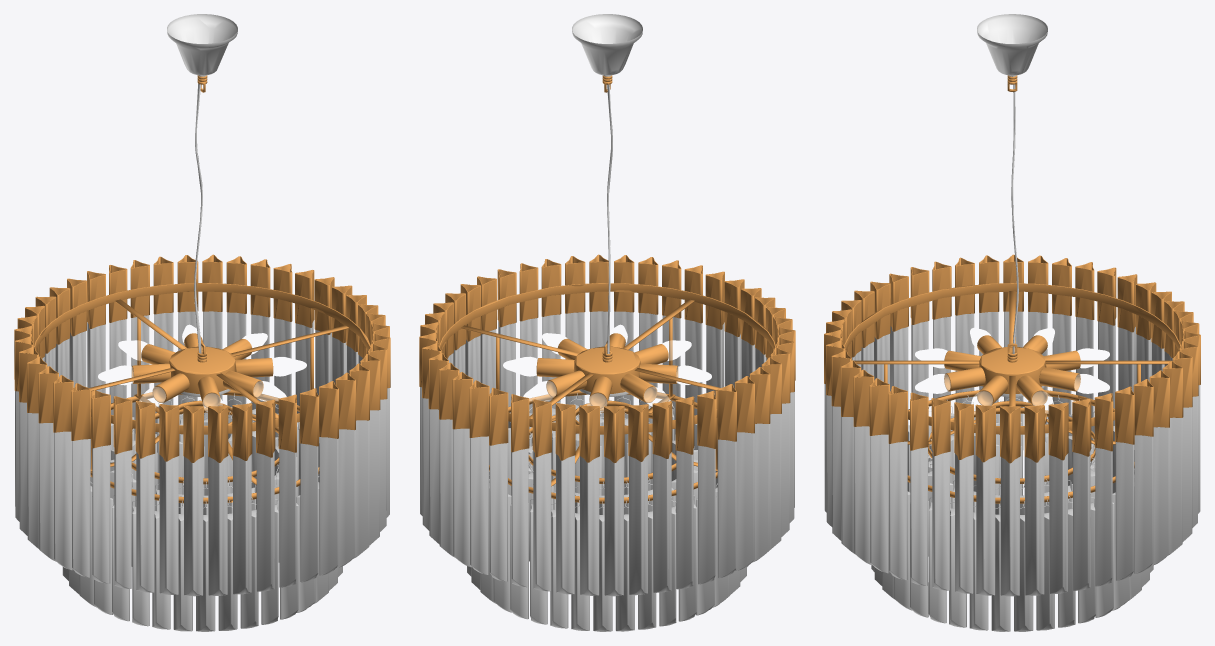
The model's file is crystal-chandelier-lamp.glb.
3 renders of one model, left to right at view 1: azimuth 30°, elevation 25°; view 2: azimuth 150°, elevation 25°; view 3: azimuth 270°, elevation 25°, orthographic.
Parts seen in each view (by area): view 1: Chandelier_Lamp3, Crystal (×2), Cylinder050.012, Cylinder050.013, Cylinder050.014, Cylinder050.007, Cylinder050.011, Cylinder050.015, Cylinder050.018, Cylinder050.010, Cylinder050.017, Cylinder050.008 (+45 smaller); view 2: Chandelier_Lamp3, Cylinder050.027, Cylinder050.028, Cylinder050.022, Cylinder050.029, Cylinder050.026, Cylinder050.025, Cylinder050.030, Cylinder050.032, Cylinder050.033, Cylinder050.021, Cylinder050.024 (+47 smaller); view 3: Chandelier_Lamp3, Cylinder050.042, Cylinder050.043, Cylinder050.041, Cylinder050.036, Cylinder050.040, Cylinder050, Cylinder050.037, Cylinder050.003, Cylinder050.004, Cylinder050.001, Cylinder050.039 (+47 smaller).
Part boxes in pixels (x1,y1,x2,y2): Chandelier_Lamp3: (34,14,370,503); Crystal (×2): (296,372,355,612); Cylinder050.012: (208,405,228,595); Cylinder050.013: (183,406,203,596); Cylinder050.014: (159,404,179,594); Cylinder050.007: (319,381,338,575); Cylinder050.011: (232,403,252,594); Cylinder050.015: (135,400,155,592); Cylinder050.018: (71,383,91,577); Cylinder050.010: (256,399,275,591); Cylinder050.017: (91,390,110,583); Cylinder050.008: (299,388,318,582); Chandelier_Lamp3: (439,14,775,503); Cylinder050.027: (604,406,624,596); Cylinder050.028: (579,405,599,595); Cylinder050.022: (717,384,736,578); Cylinder050.029: (555,403,575,594); Cylinder050.026: (628,404,648,595); Cylinder050.025: (652,401,672,592); Cylinder050.030: (532,399,551,591); Cylinder050.032: (489,387,508,581); Cylinder050.033: (469,380,489,574); Cylinder050.021: (734,376,754,570); Cylinder050.024: (675,396,694,589); Chandelier_Lamp3: (844,14,1180,503); Cylinder050.042: (1000,406,1020,596); Cylinder050.043: (975,404,995,595); Cylinder050.041: (1024,405,1044,595); Cylinder050.036: (1133,379,1153,573); Cylinder050.040: (1048,402,1068,593); Cylinder050: (954,402,973,593); Cylinder050.037: (1115,386,1134,580); Cylinder050.003: (888,386,907,580); Cylinder050.004: (869,378,889,573); Cylinder050.001: (931,398,950,590); Cylinder050.039: (1072,398,1091,590).
Size of the model in its own units: 0.5983 by 0.9614 by 0.5983.
